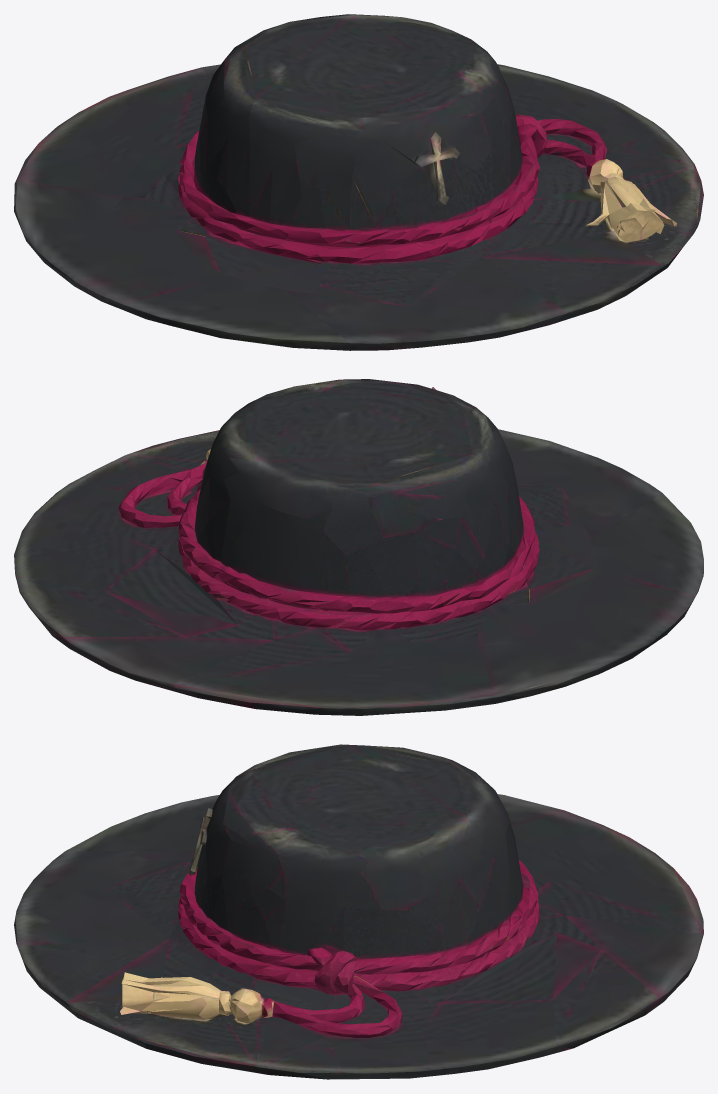
The model's file is chierico-testa.glb.
3 renders of one model, top to bottom at view 1: azimuth 30°, elevation 25°; view 2: azimuth 150°, elevation 25°; view 3: azimuth 270°, elevation 25°, orthographic.
Parts seen in each view (by area): view 1: Mesh_0; view 2: Mesh_0; view 3: Mesh_0.
Boxes of the visible parts, <box> form: Mesh_0: <box>14,14,703,350</box>; Mesh_0: <box>14,379,703,715</box>; Mesh_0: <box>14,744,703,1079</box>.
Size of the model in its own units: 1.9 by 0.4268 by 1.9.
1 material, 1 textured.
